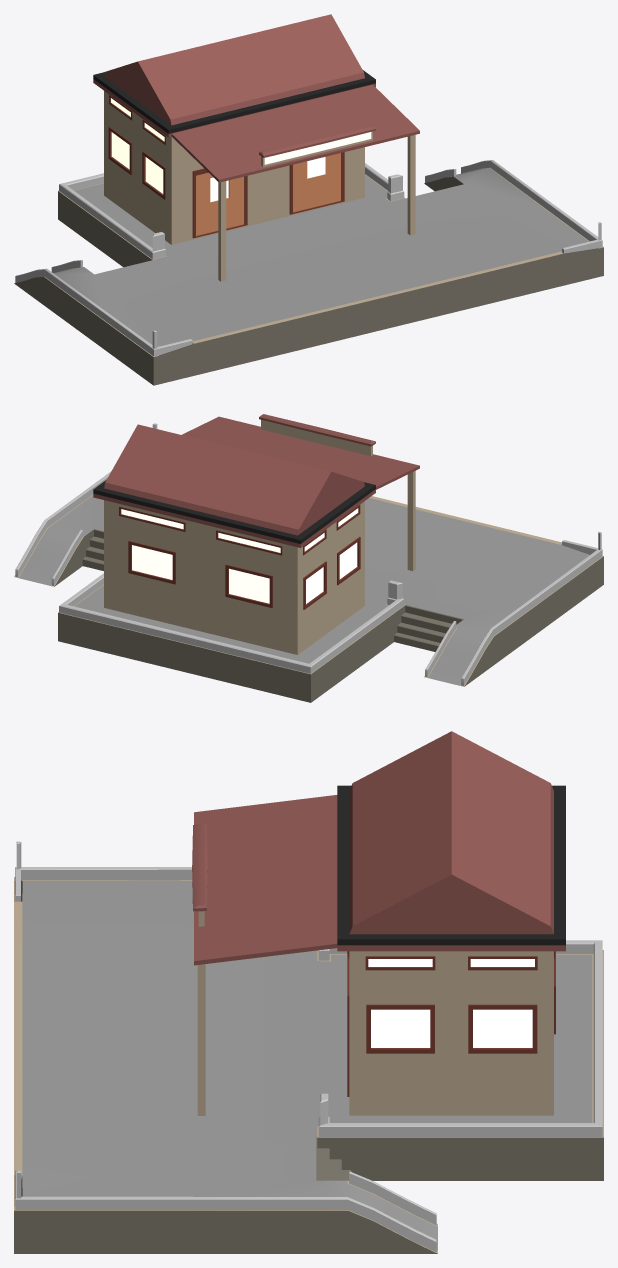
3 renders of one model, top to bottom at view 1: azimuth 30°, elevation 25°; view 2: azimuth 150°, elevation 25°; view 3: azimuth 270°, elevation 25°, orthographic. The views are drawn at different scales.
Parts seen in each view (by area): view 1: TrainStation.001; view 2: TrainStation.001; view 3: TrainStation.001.
Part boxes in pixels (x1=…): TrainStation.001: x1=14, y1=14, x2=603, y2=385; TrainStation.001: x1=14, y1=414, x2=603, y2=702; TrainStation.001: x1=14, y1=731, x2=603, y2=1253.
Bounding box in the file's own units: 23.47 × 9.33 × 17.55.
